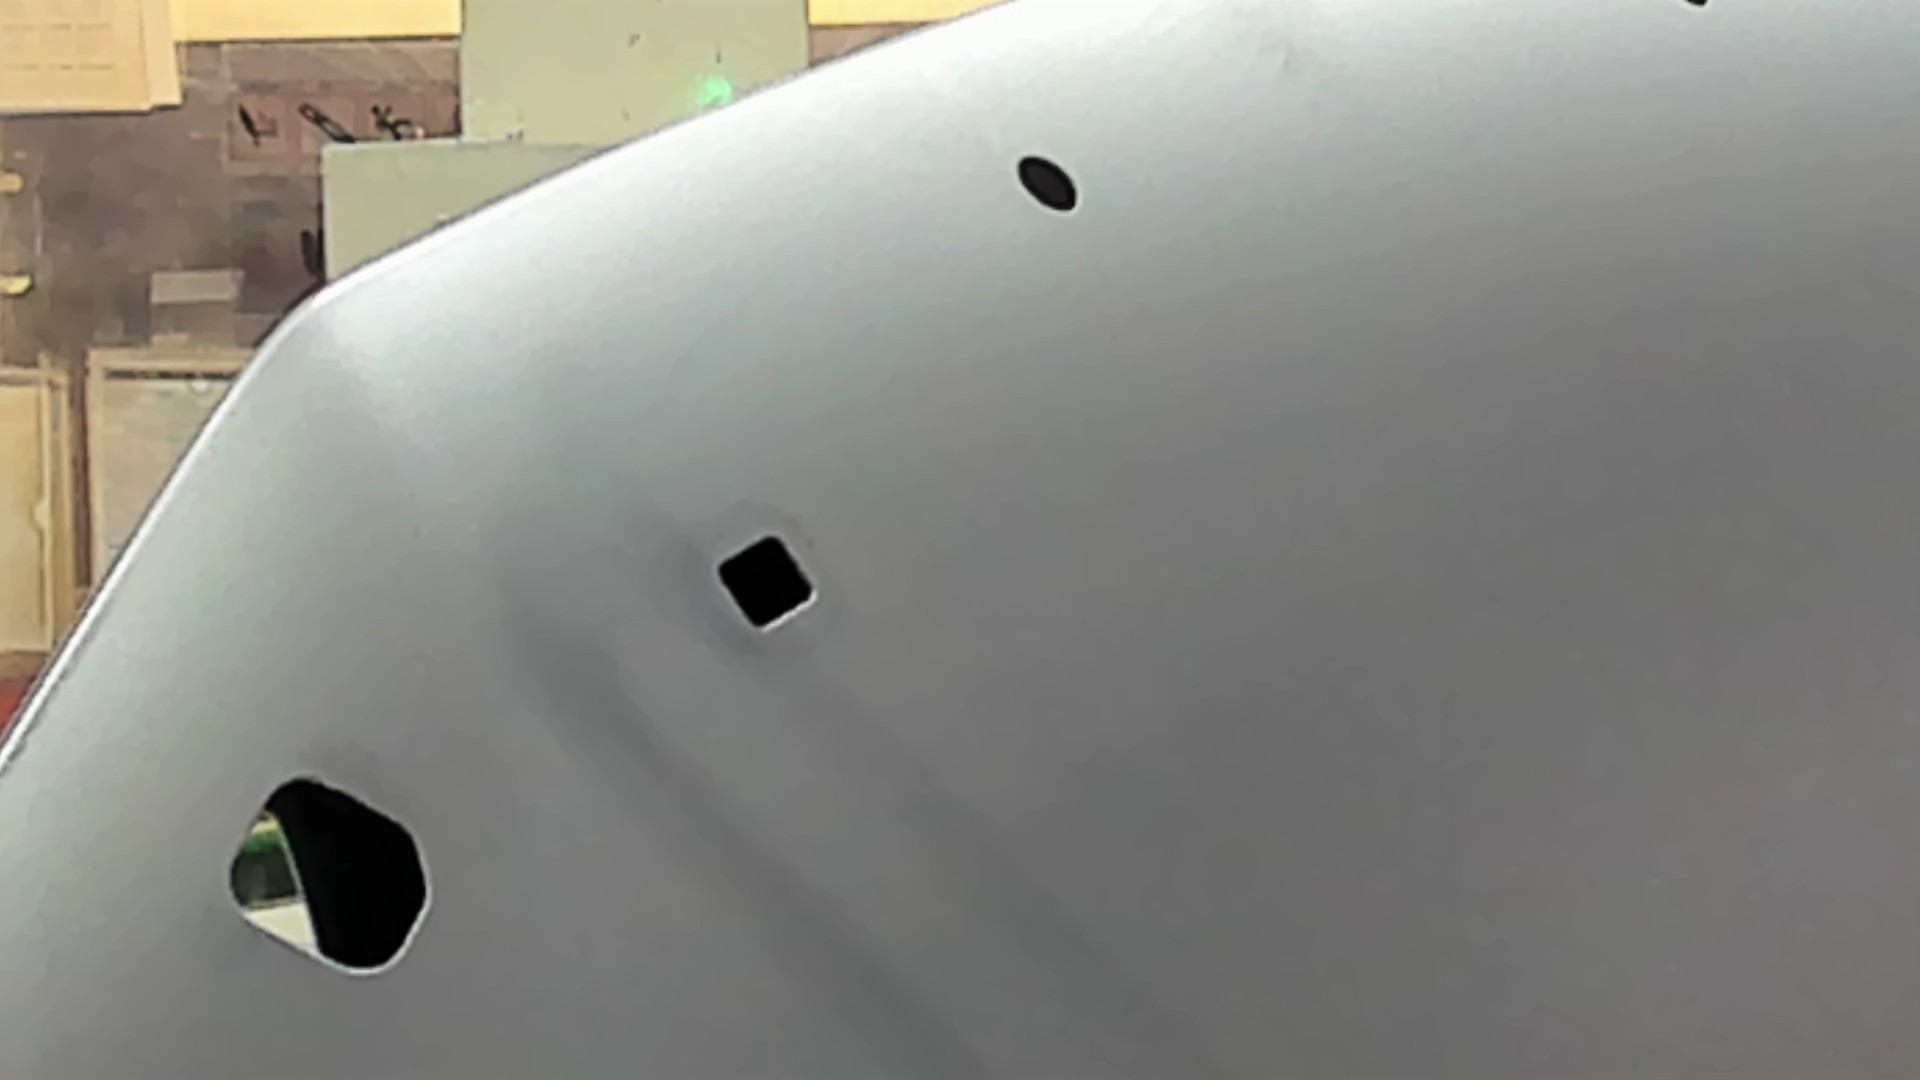chico: (996, 136, 1102, 227)
grande: (189, 761, 471, 1001)
mediano: (686, 527, 841, 642)
